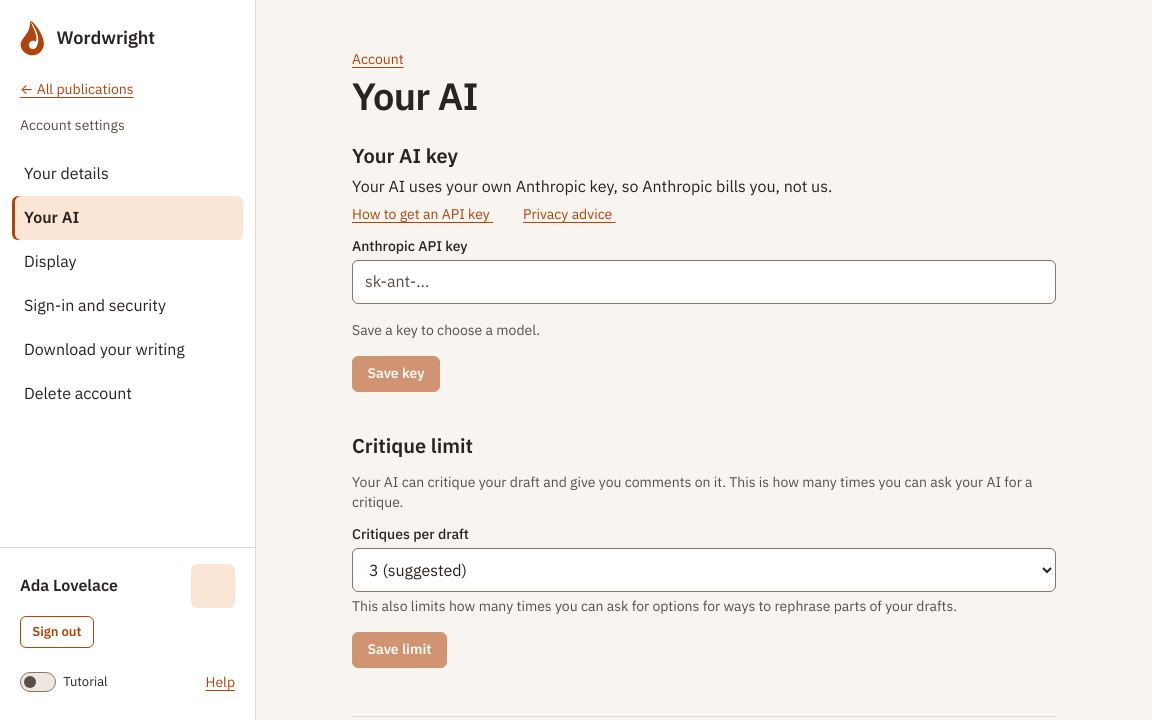
it: AccountView: AI assistant key › shows why a key was refused
Type "sk-ant-wrong-1234567890" into the password field labelled "Anthropic API key" at (704, 282), box x1=352 y1=260 x2=1056 y2=304
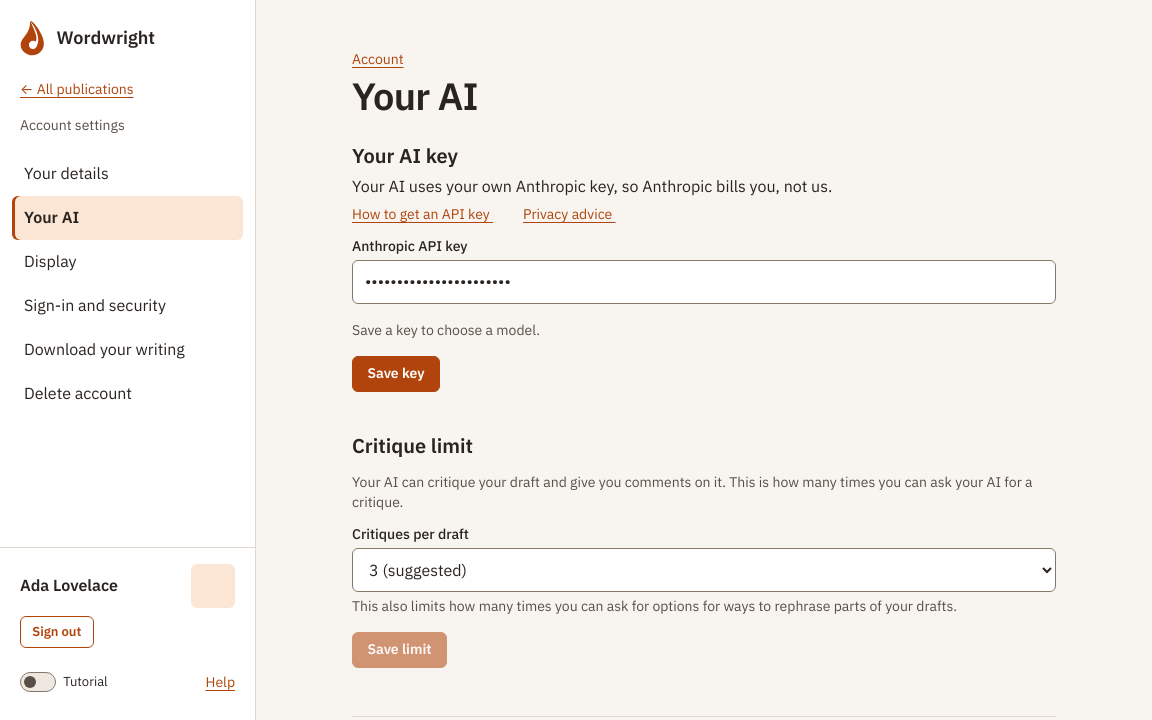
Result: the button "Save key" is enabled
Click the button "Save key" at (396, 374), box x1=352 y1=356 x2=440 y2=392
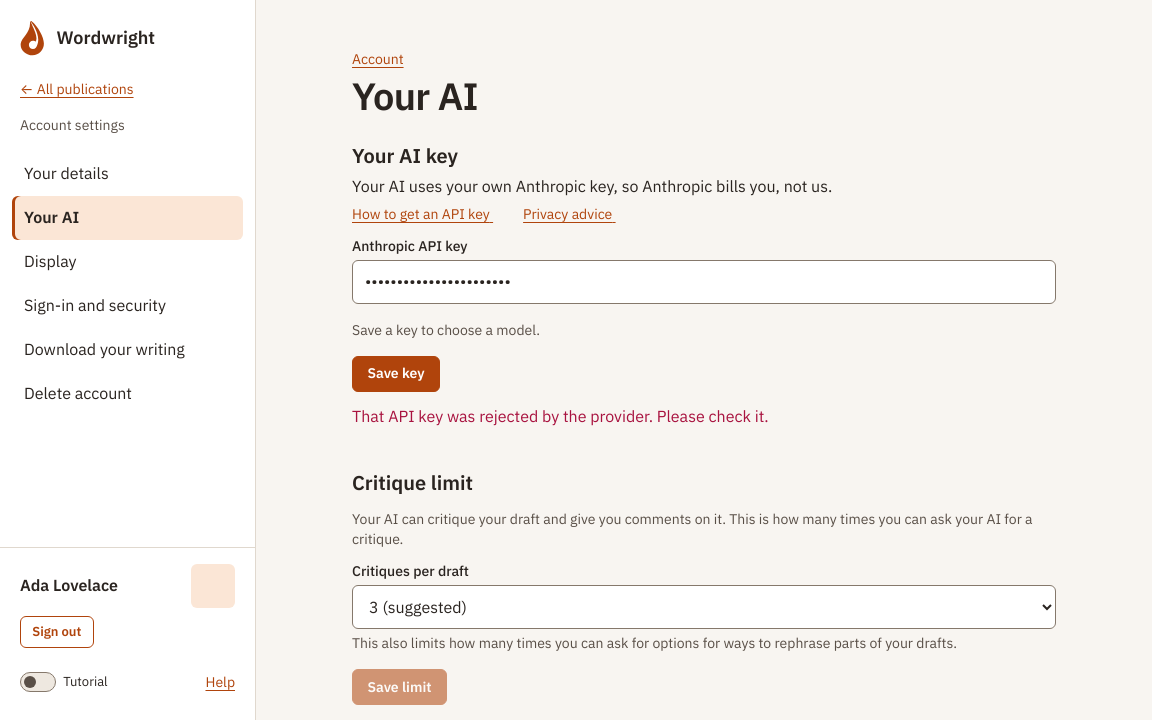
Result: the message shows "rejected" at x1=352 y1=406 x2=769 y2=426
